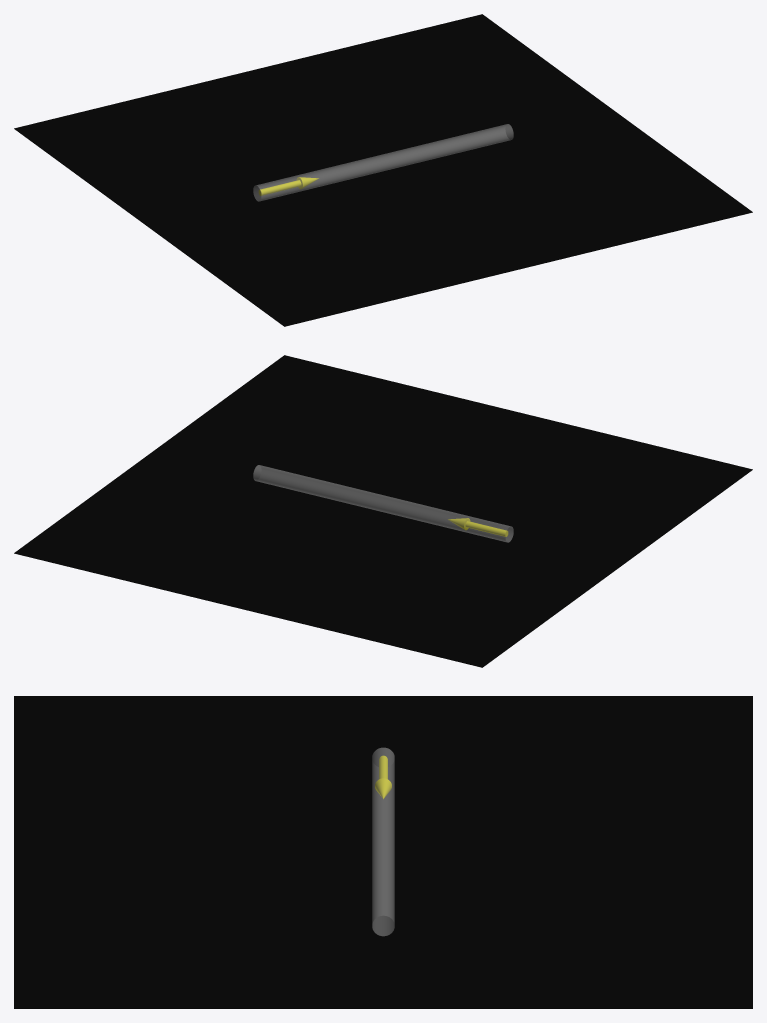
File: dianliu.FBX
3 renders of one model, top to bottom at view 1: azimuth 30°, elevation 25°; view 2: azimuth 150°, elevation 25°; view 3: azimuth 270°, elevation 25°, orthographic. The views are drawn at different scales.
Parts seen in each view (by area): view 1: Plane001, Cylinder001; view 2: Plane001, Cylinder001; view 3: Plane001, Cylinder001.
Boxes of the visible parts, left/top/right/bottom form: Plane001: left=14, top=14, right=752, bottom=326; Cylinder001: left=253, top=124, right=513, bottom=201; Plane001: left=14, top=355, right=752, bottom=667; Cylinder001: left=253, top=465, right=513, bottom=542; Plane001: left=14, top=696, right=752, bottom=1008; Cylinder001: left=372, top=747, right=394, bottom=936.
Bounding box in the file's own units: 130 × 4.1 × 130.
3 materials, 3 textured.
